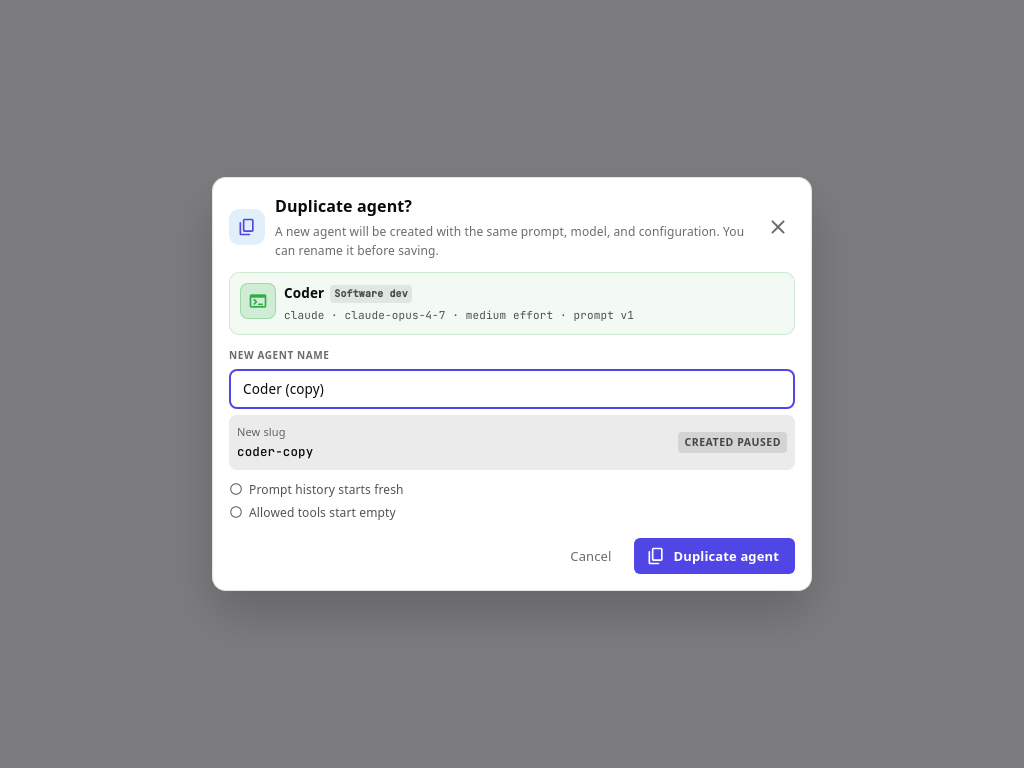
DuplicateAgentModal › shows "Agent duplicated" heading on successful POST
The width and height of the screenshot is (1024, 768).
Click the button "Duplicate agent" at (714, 556), box [634,538,795,574]
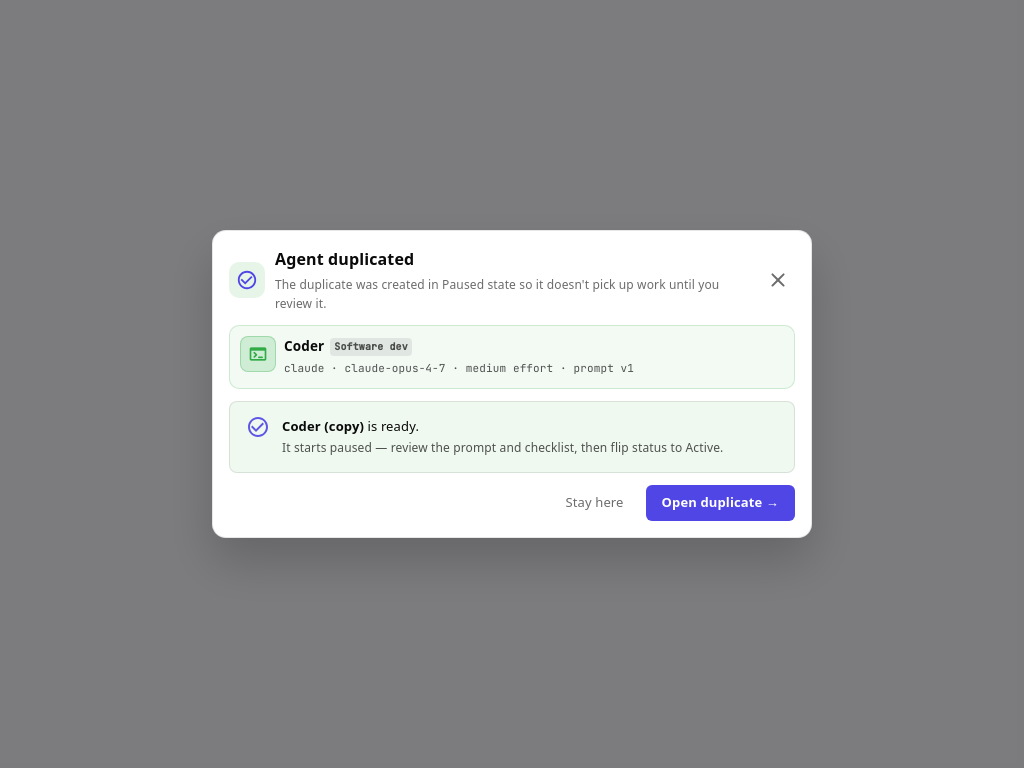
Now the text "Agent duplicated" is shown, box [275,248,414,270]
